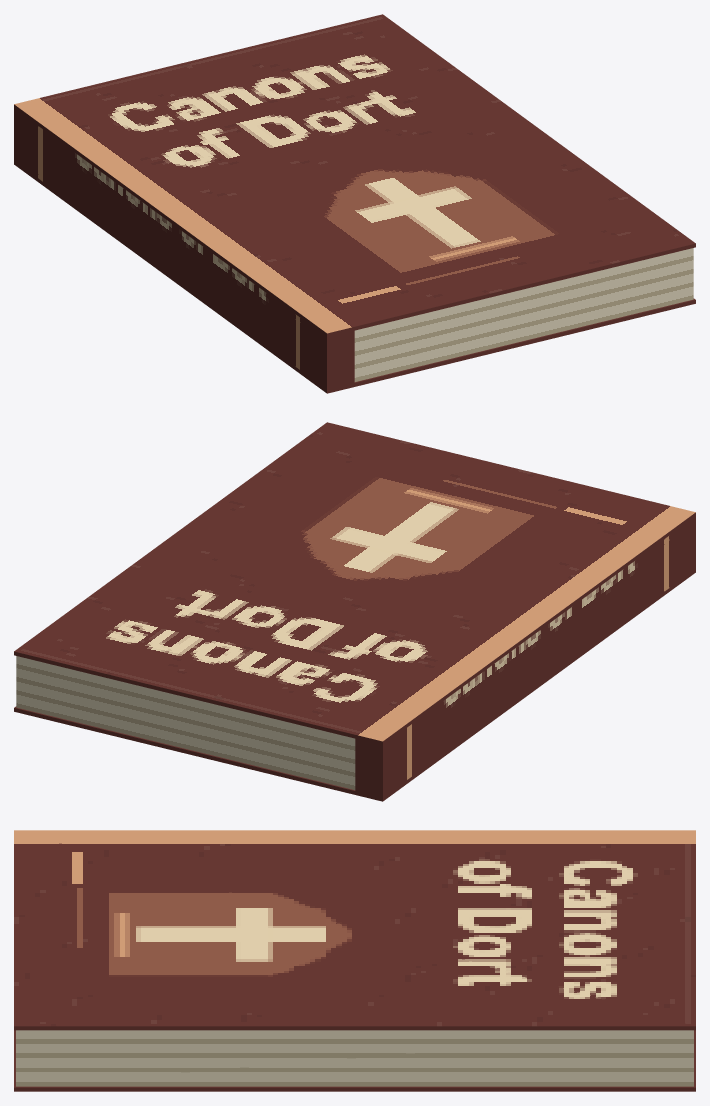
File: holybook_dort.glb
The picture shows the model from 3 angles, top to bottom: view 1: azimuth 30°, elevation 25°; view 2: azimuth 150°, elevation 25°; view 3: azimuth 270°, elevation 25°; orthographic projection. The views are drawn at different scales.
Visible parts, largest first — view 1: block_front cover, block_spine, block_page block, block_back cover; view 2: block_front cover, block_spine, block_page block, block_back cover; view 3: block_front cover, block_page block, block_back cover.
Part boxes in pixels (x1,y1,x2,y2): block_front cover: [14, 14, 695, 337]; block_spine: [14, 108, 354, 389]; block_page block: [354, 248, 693, 381]; block_back cover: [14, 161, 695, 393]; block_front cover: [14, 422, 695, 745]; block_spine: [355, 516, 695, 797]; block_page block: [16, 656, 355, 789]; block_back cover: [14, 569, 695, 801]; block_front cover: [14, 830, 695, 1030]; block_page block: [16, 1030, 693, 1086]; block_back cover: [14, 1030, 695, 1091].
Bounding box in the file's own units: 0.1204 × 0.0188 × 0.177.
1 material, 1 textured.
